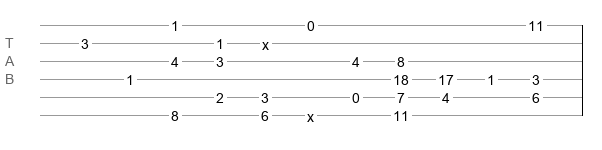0: (307, 18, 315, 28), (352, 90, 360, 100)
1: (126, 72, 134, 82), (171, 18, 179, 28), (216, 36, 224, 46), (487, 72, 495, 82)
11: (393, 108, 409, 118), (528, 18, 544, 28)
17: (438, 72, 454, 82)
18: (393, 72, 409, 82)
2: (216, 90, 224, 100)
3: (81, 36, 89, 46), (216, 54, 224, 64), (261, 90, 269, 100), (532, 72, 540, 82)
4: (171, 54, 179, 64), (352, 54, 360, 64), (442, 90, 450, 100)
6: (261, 108, 269, 118), (532, 90, 540, 100)
7: (397, 90, 405, 100)
8: (171, 108, 179, 118), (397, 54, 405, 64)
x: (262, 37, 269, 45), (307, 109, 314, 117)
